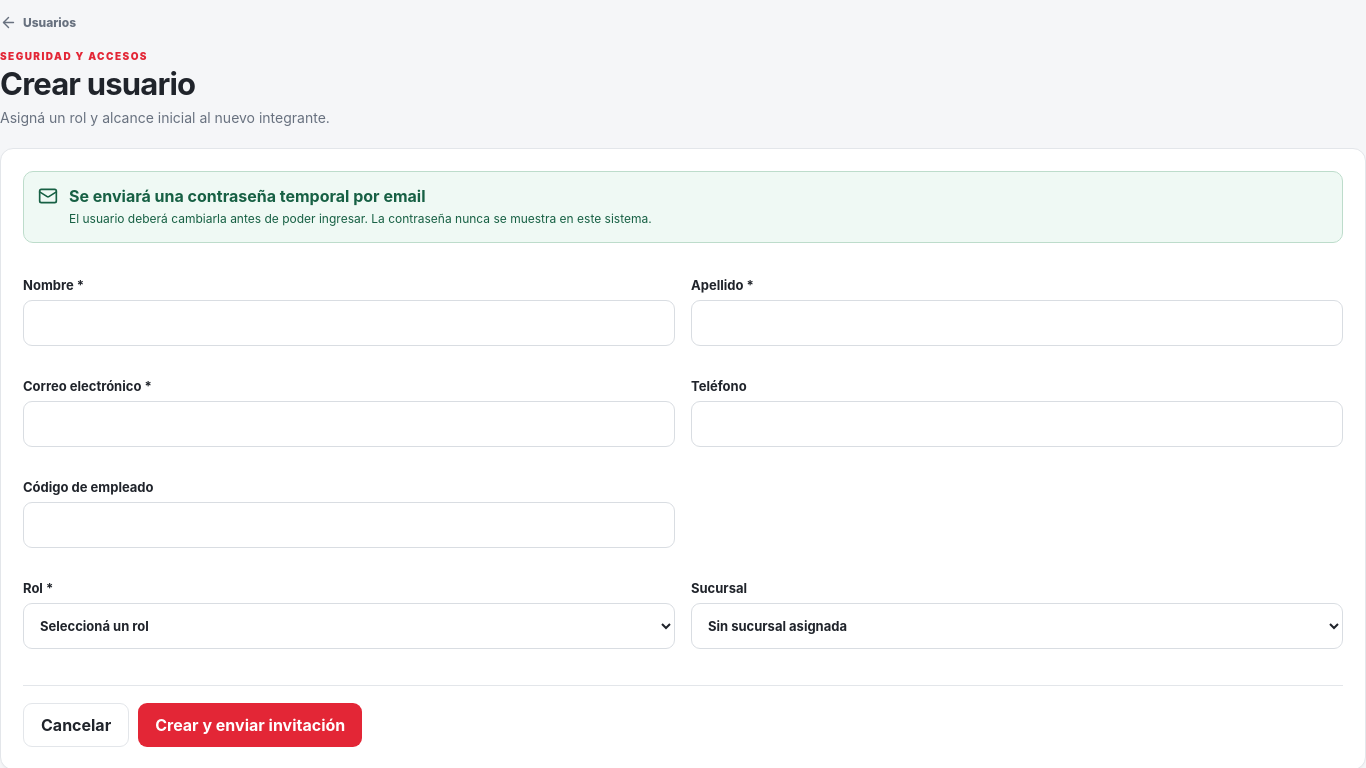
it: gestión de usuarios › crea sin campo de contraseña y confirma el email
The image size is (1366, 768).
Expected: the text "Se enviará una contraseña temporal por email" is shown, x1=69 y1=186 x2=426 y2=206
In the field labelled "Nombre *": (349, 323) x1=23 y1=300 x2=675 y2=346, type "Ana"
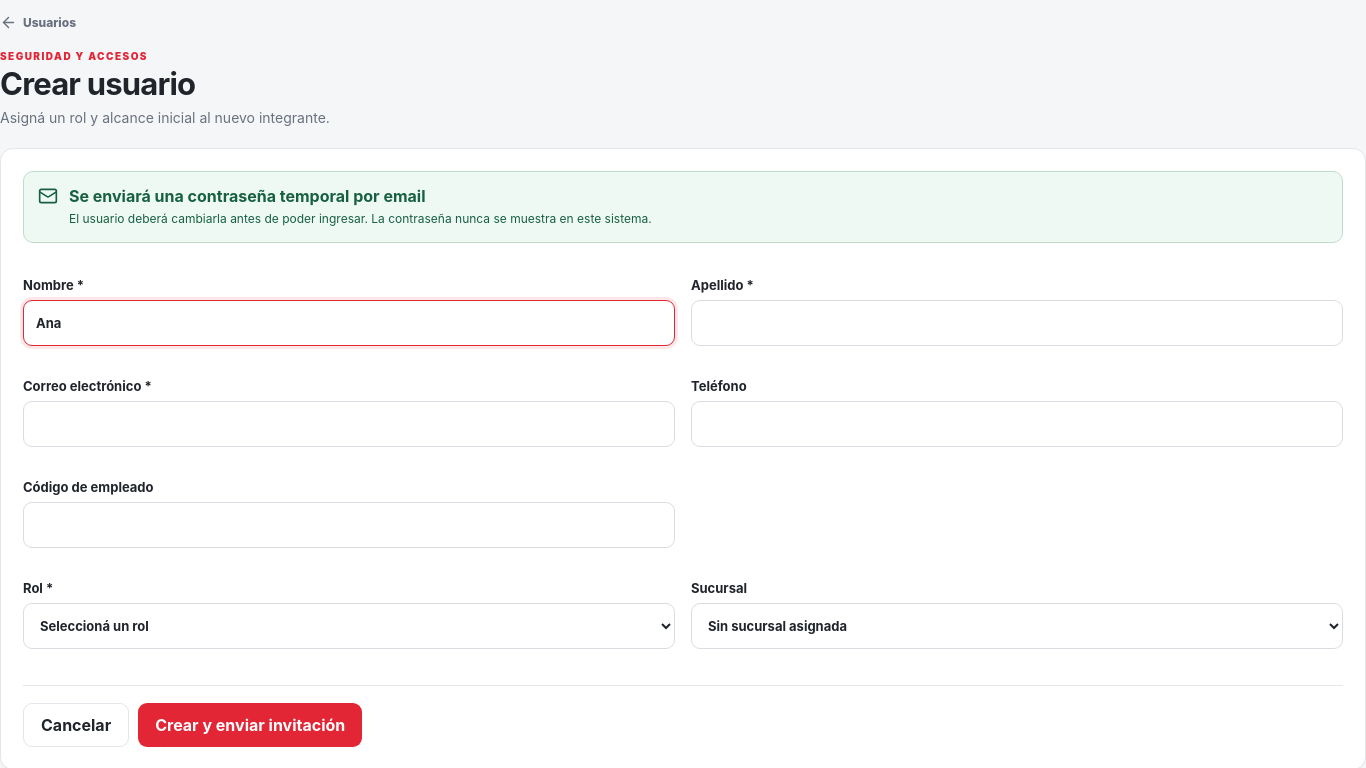
In the field labelled "Apellido *": (1017, 323) x1=691 y1=300 x2=1343 y2=346, type "Gómez"
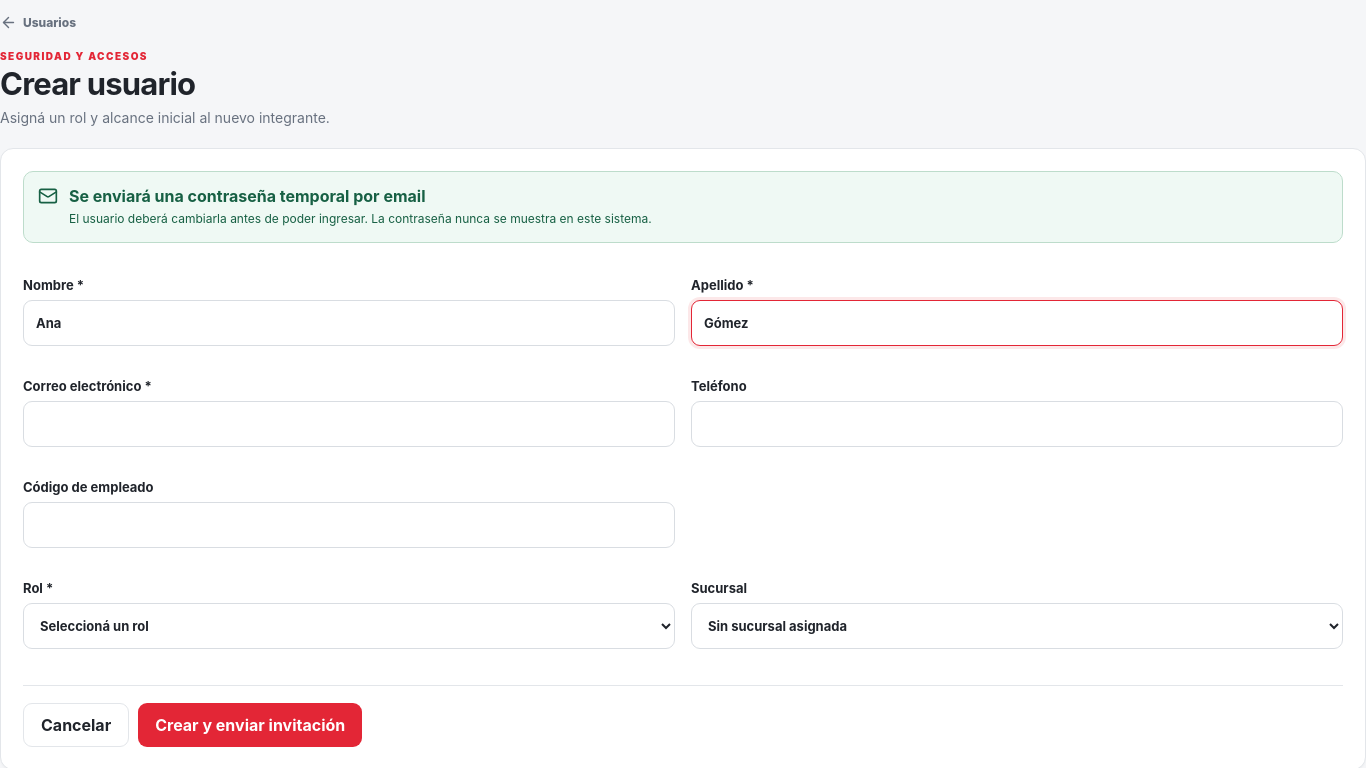
In the field labelled "Correo electrónico *": (349, 424) x1=23 y1=401 x2=675 y2=447, type "ANA@LUMA.TEST"
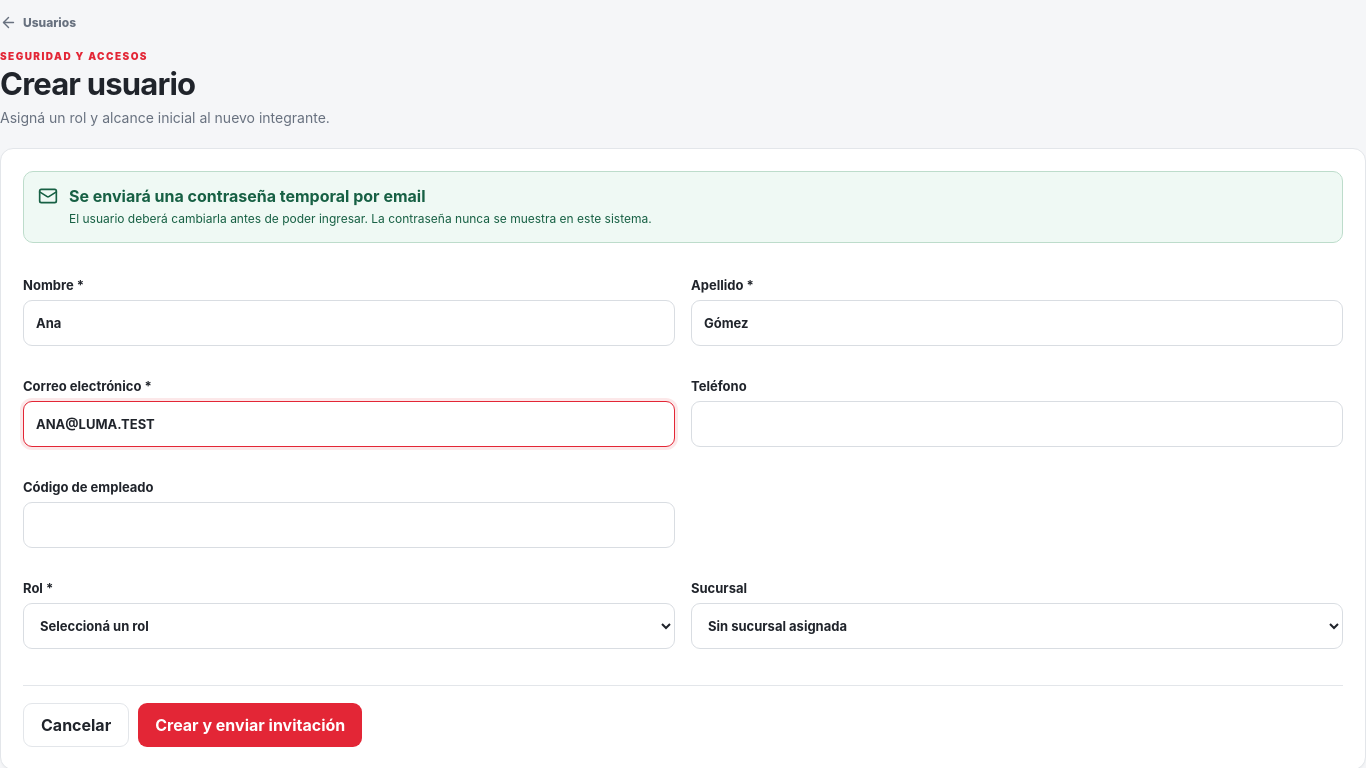
Select "Vendedor" in the dropdown labelled "Rol *": (349, 626) x1=23 y1=603 x2=675 y2=649
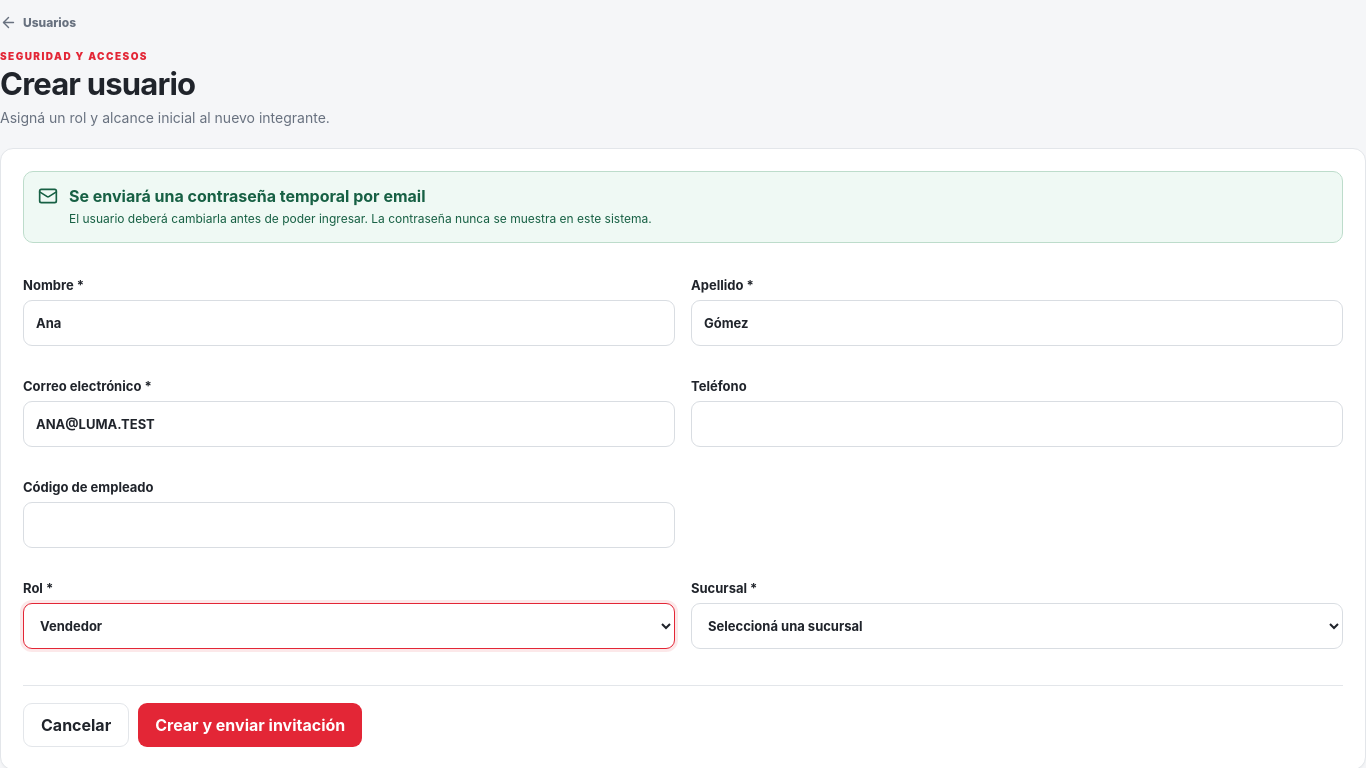
Select "San Miguel" in the dropdown labelled "Sucursal *": (1017, 626) x1=691 y1=603 x2=1343 y2=649
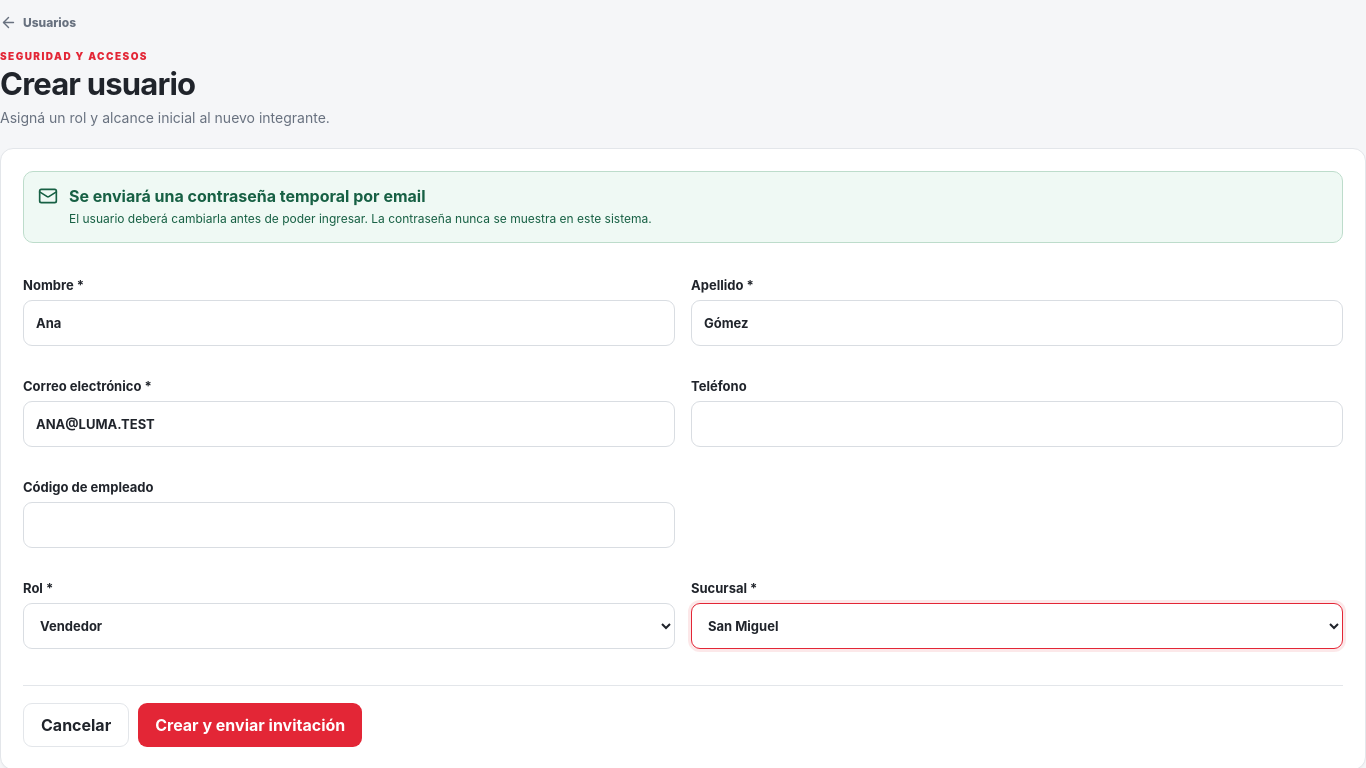
Click the button "Crear y enviar invitación": (250, 725) x1=138 y1=703 x2=362 y2=747
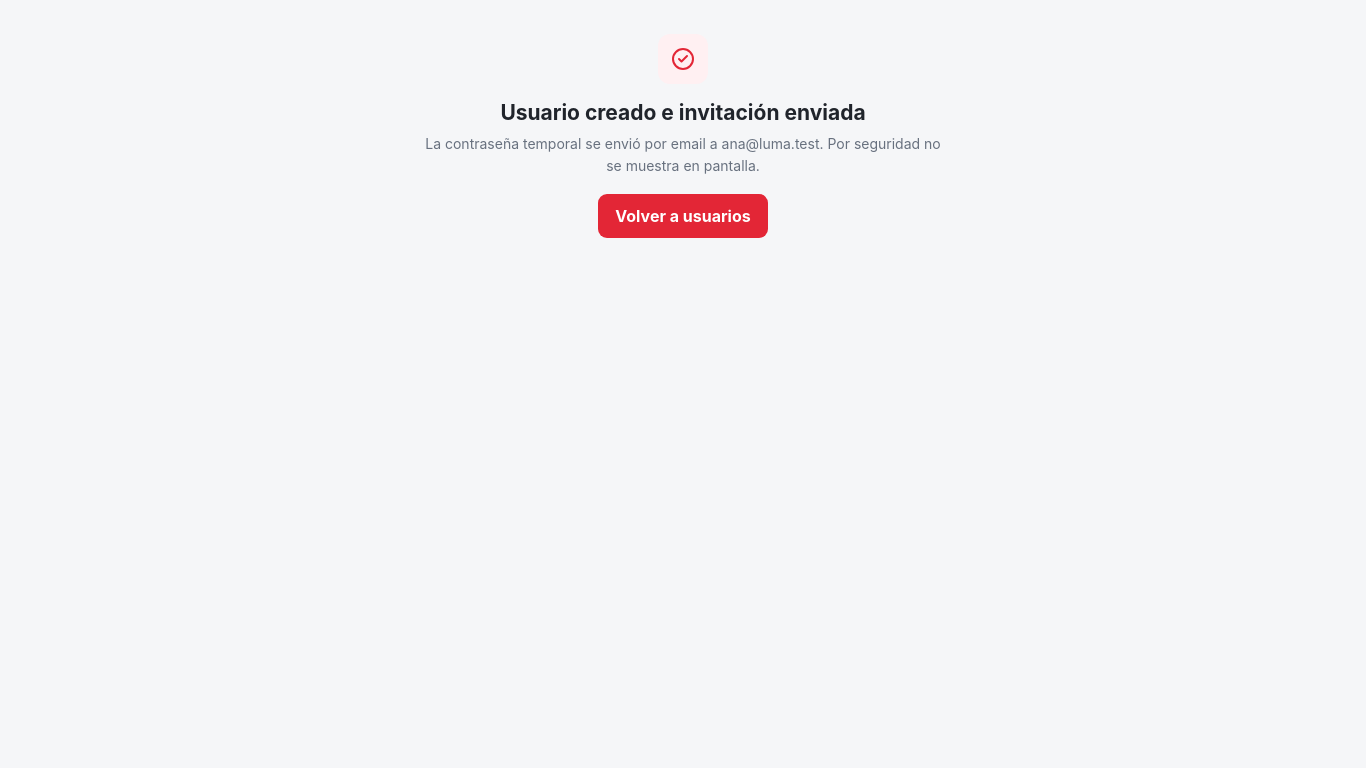
Expected: the heading "Usuario creado e invitación enviada" is shown, x1=500 y1=100 x2=866 y2=125
